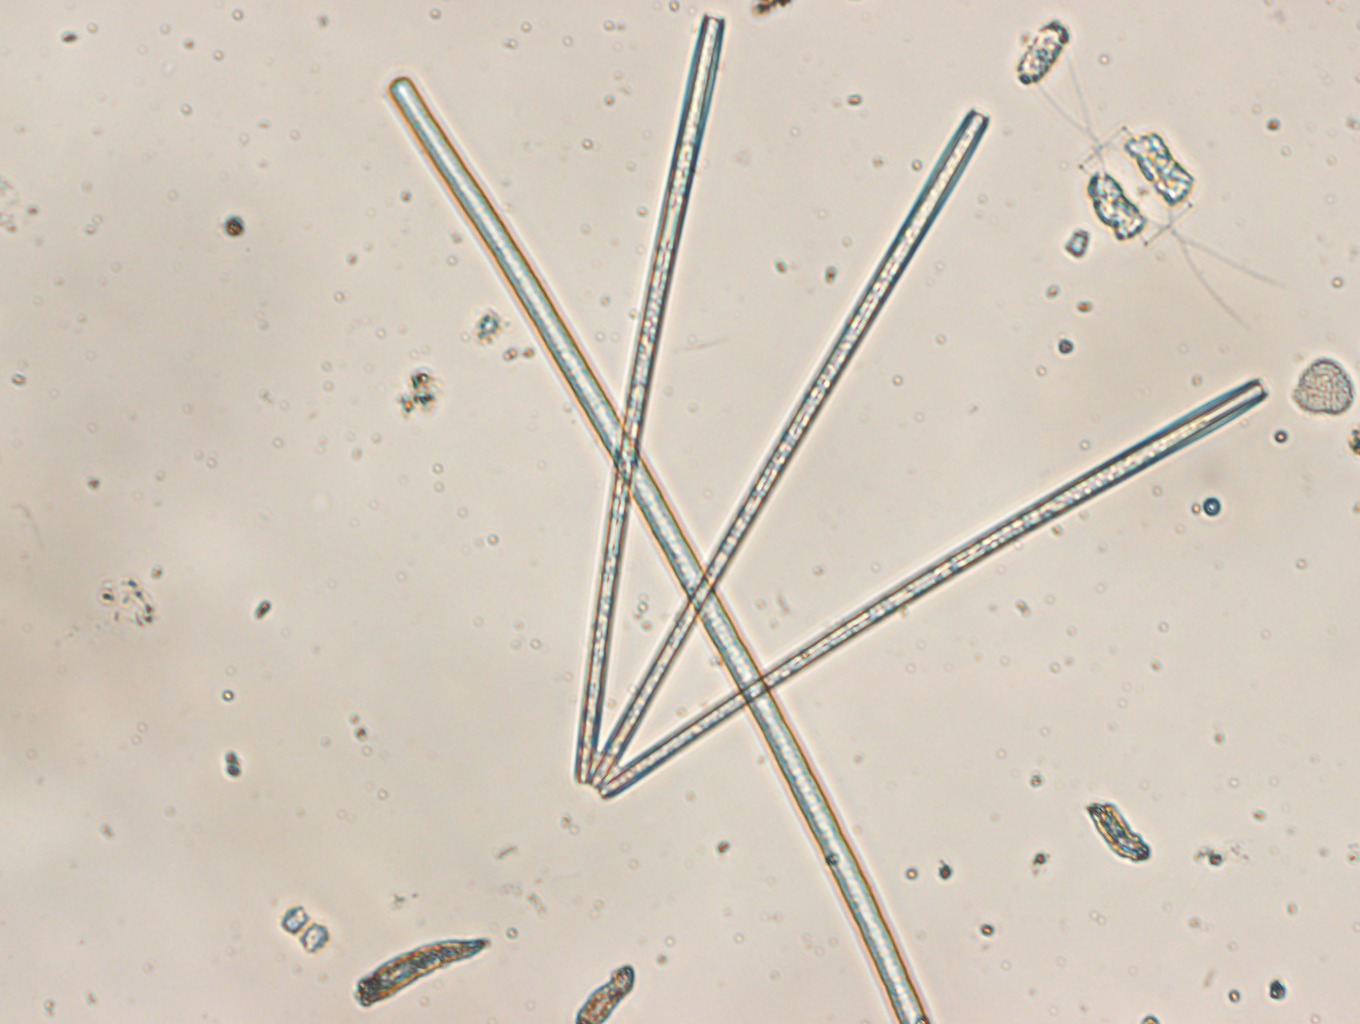chaetoceros: (1032, 48, 1286, 330)
thalassionema frauenfeldii: (573, 12, 1266, 803)
